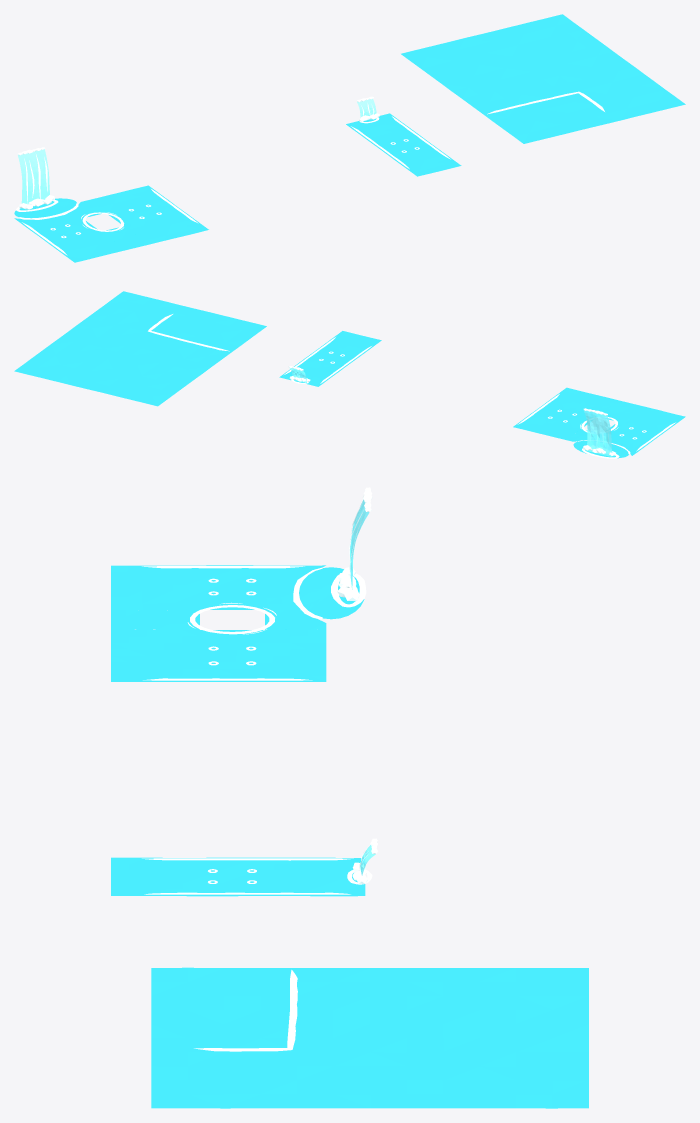
The model's file is L01_Water.fbx.
3 renders of one model, top to bottom at view 1: azimuth 30°, elevation 25°; view 2: azimuth 150°, elevation 25°; view 3: azimuth 270°, elevation 25°, orthographic. The views are drawn at different scales.
Visible parts, largest first — view 1: WAT_Crystal_Rivers_And_Pools, WAT_Cascades_And_Foam; view 2: WAT_Crystal_Rivers_And_Pools, WAT_Cascades_And_Foam; view 3: WAT_Crystal_Rivers_And_Pools, WAT_Cascades_And_Foam.
Boxes of the visible parts, x1,y1,x2,y2 form: WAT_Crystal_Rivers_And_Pools: (14,14,685,262); WAT_Cascades_And_Foam: (16,91,604,255); WAT_Crystal_Rivers_And_Pools: (14,291,685,458); WAT_Cascades_And_Foam: (148,314,675,458); WAT_Crystal_Rivers_And_Pools: (111,565,588,1108); WAT_Cascades_And_Foam: (142,487,377,1051).
Bounding box in the file's own units: 78.7 × 6.71 × 29.5.
